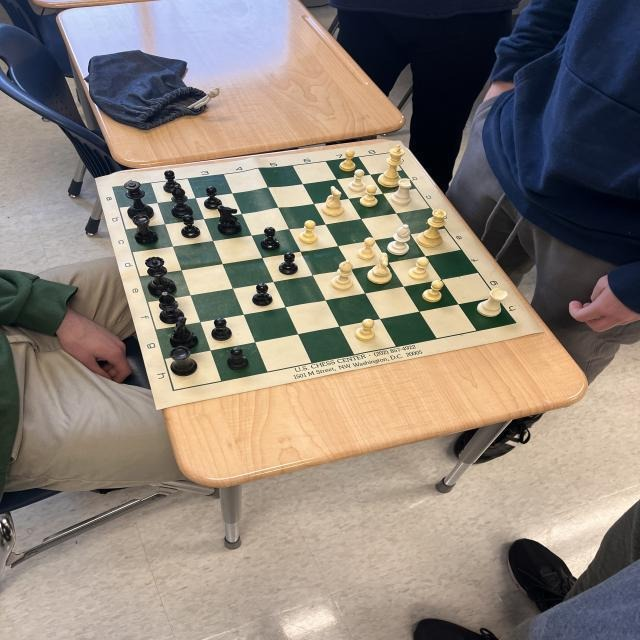black-bishop: (157, 291, 184, 324), (170, 186, 193, 218)
black-king: (123, 180, 154, 220)
black-knight: (169, 316, 199, 350), (217, 206, 242, 234)
black-pawn: (226, 347, 249, 370), (211, 317, 232, 341), (259, 226, 280, 250), (251, 282, 272, 305), (278, 252, 298, 276), (180, 214, 200, 238), (204, 186, 222, 209), (163, 169, 181, 192)
black-queen: (144, 255, 176, 296)
black-rook: (169, 346, 199, 377), (132, 215, 157, 245)
white-bishop: (330, 260, 354, 290), (388, 224, 411, 255)
white-king: (379, 145, 405, 187)
white-knight: (367, 252, 392, 284), (321, 185, 345, 216)
white-pawn: (408, 256, 430, 279), (353, 318, 375, 341), (422, 280, 444, 302), (298, 220, 318, 244), (356, 236, 375, 259), (359, 185, 378, 207), (349, 168, 366, 191), (339, 149, 356, 171)
white-queen: (417, 208, 447, 247)
white-rook: (476, 288, 508, 316), (391, 178, 413, 205)
